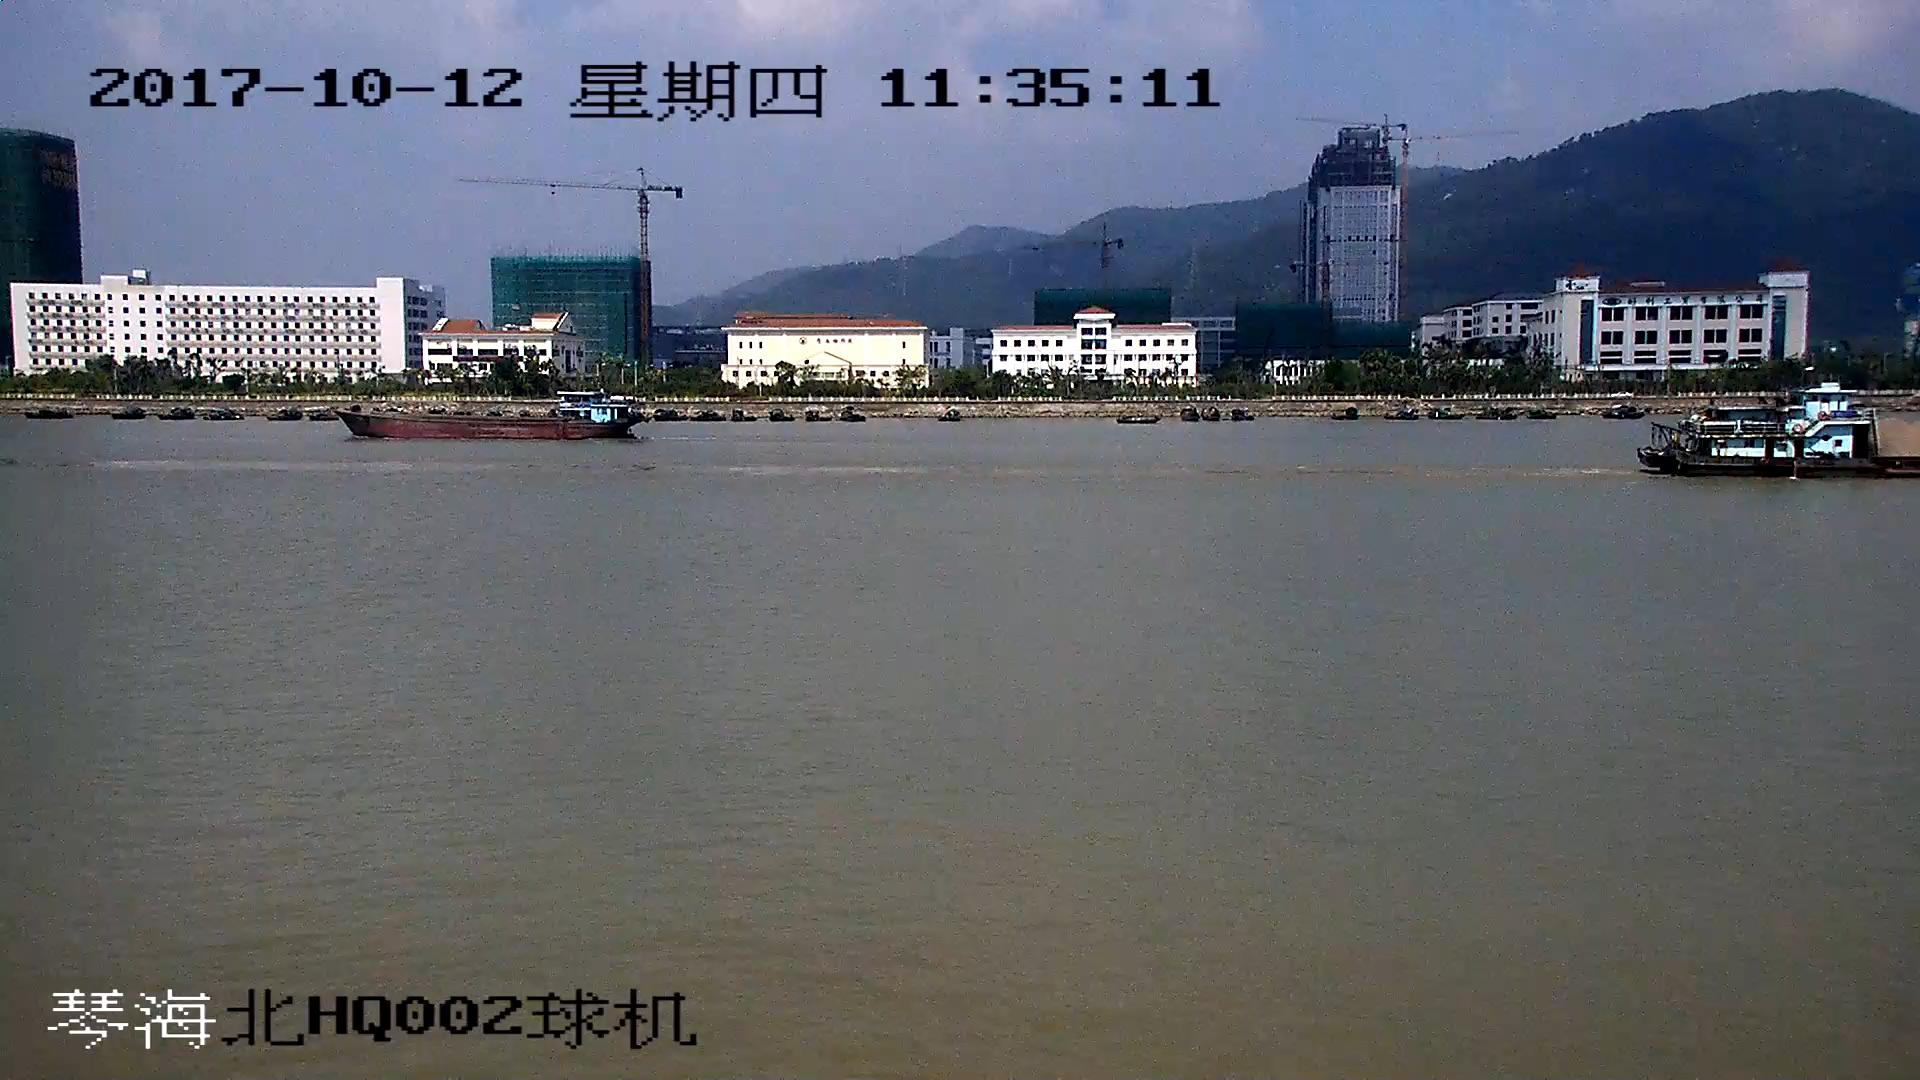bulk cargo carrier: (337, 388, 637, 439)
ore carrier: (1643, 396, 1920, 481)
